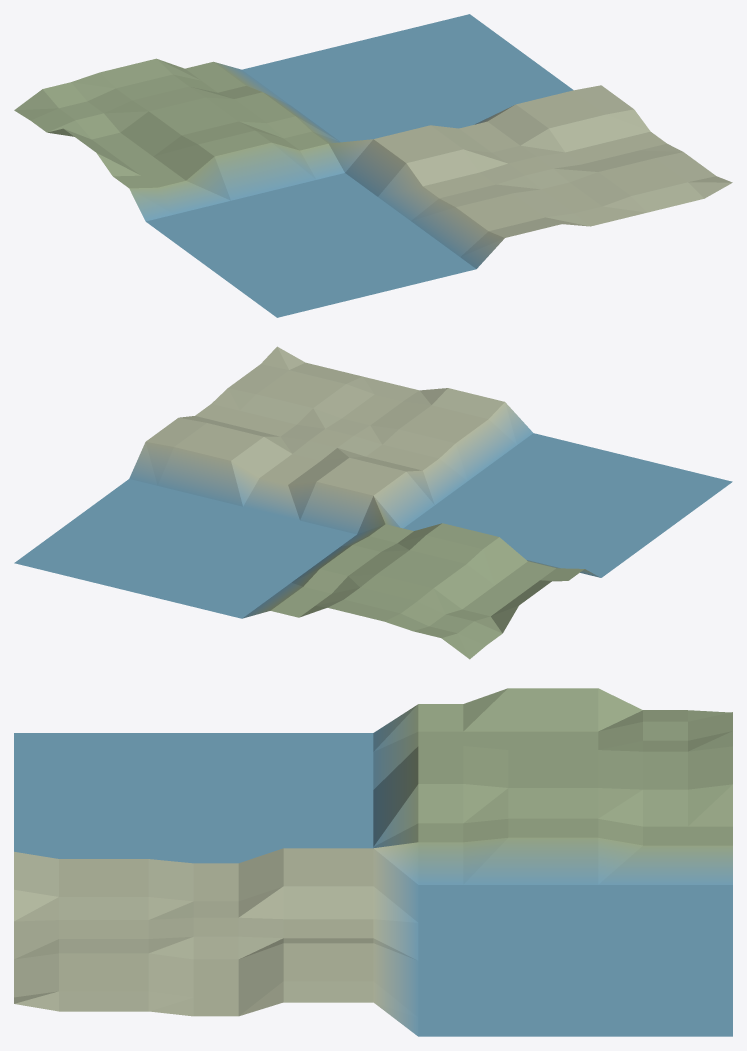
3 renders of one model, top to bottom at view 1: azimuth 30°, elevation 25°; view 2: azimuth 150°, elevation 25°; view 3: azimuth 270°, elevation 25°, orthographic. The views are drawn at different scales.
Size of the model in its own units: 32 by 2.2 by 32.
